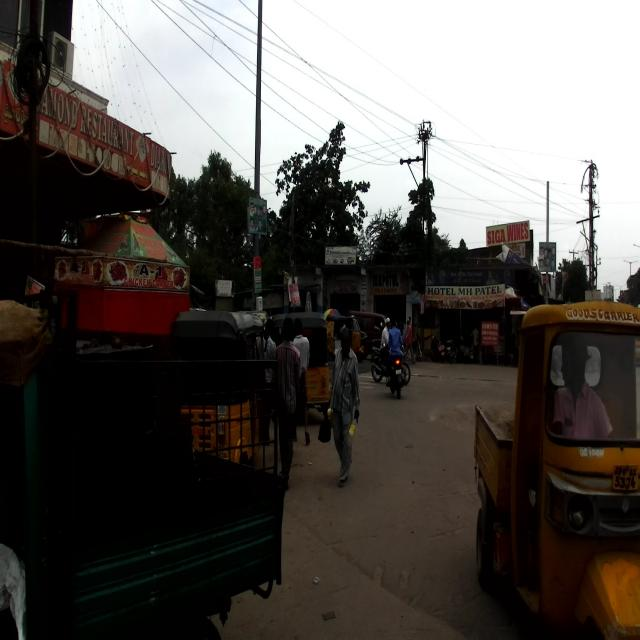Car_Toyota: (348, 309, 406, 364)
autorickshaw: (0, 288, 288, 638), (473, 299, 639, 639), (169, 308, 269, 468), (278, 312, 329, 422)
